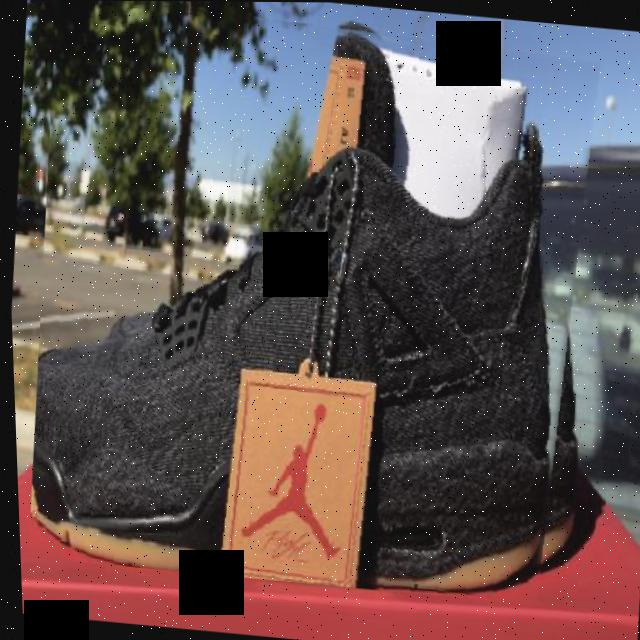shoe: (7, 0, 617, 607)
